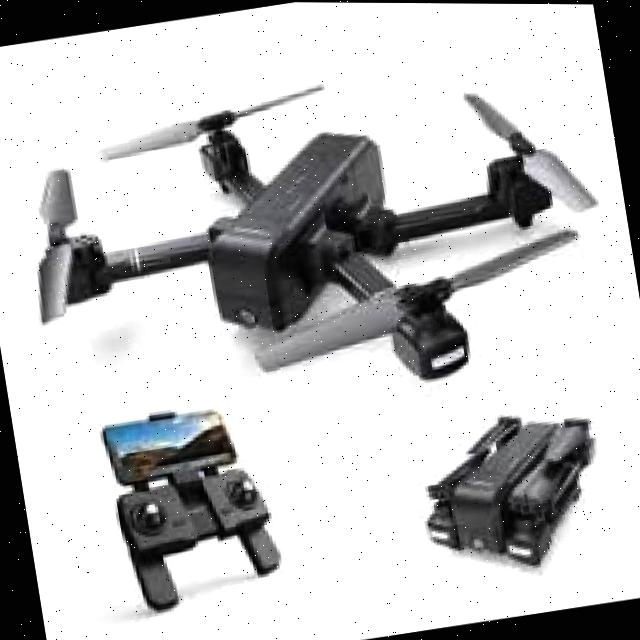drone: (0, 18, 640, 450)
